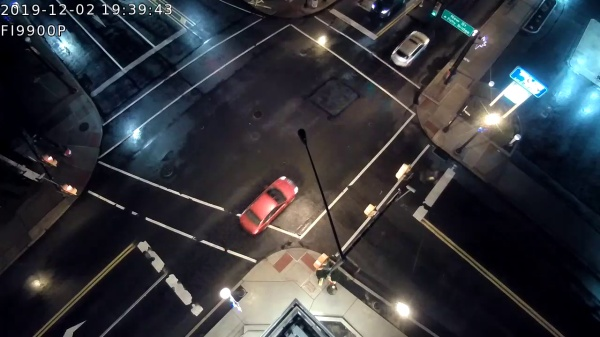car: (239, 175, 299, 237), (390, 30, 430, 68), (370, 1, 404, 21)
